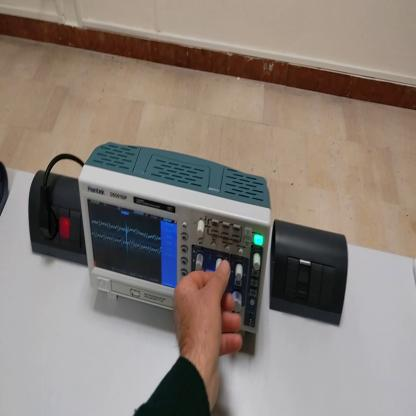hand: (173, 263, 241, 401)
oscilloscope: (76, 146, 269, 341)
socket: (25, 168, 86, 261), (2, 160, 8, 218)
